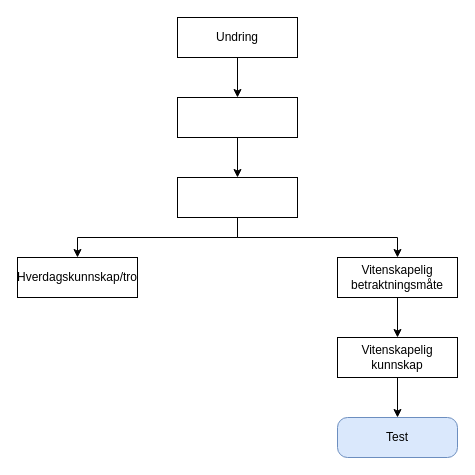
Some shapes in this 475 by 475 pixel diagram are drawn without their labels. Each missing label, with the centre of its shape:
Nysgjerrighet: pixel 237 117
Spørsmål: pixel 237 197
